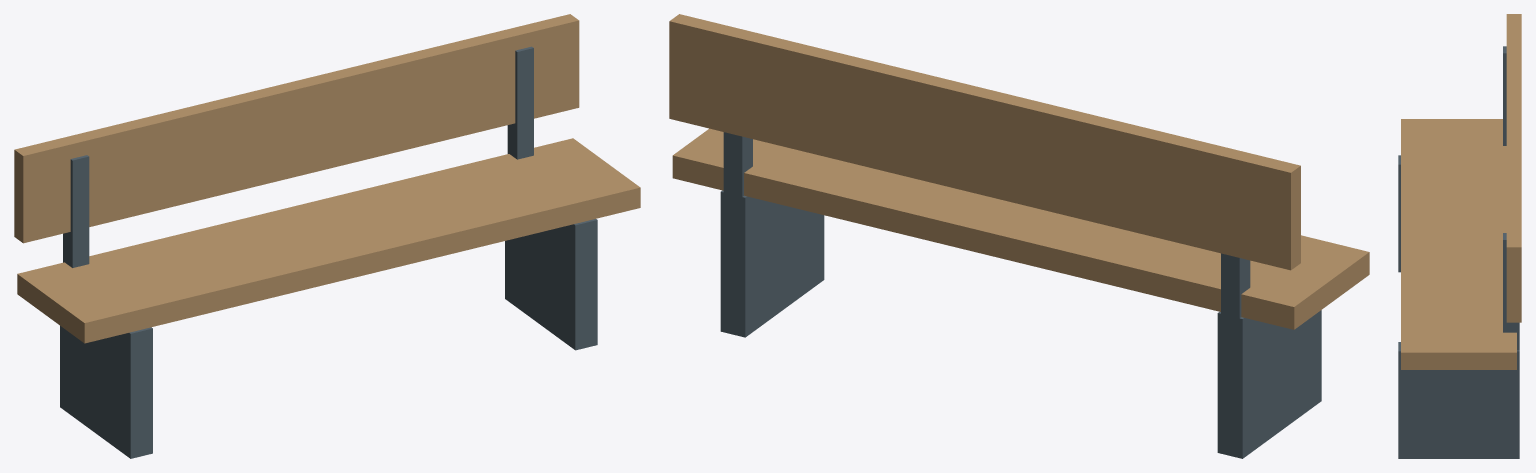
File: team-bench-ce50f02b.glb
The picture shows the model from 3 angles, left to right: view 1: azimuth 30°, elevation 25°; view 2: azimuth 150°, elevation 25°; view 3: azimuth 270°, elevation 25°; orthographic projection. The views are drawn at different scales.
Visible parts, largest first — view 1: team-bench; view 2: team-bench; view 3: team-bench.
Boxes of the visible parts, x1,y1,x2,y2 form: team-bench: [14, 14, 640, 458]; team-bench: [669, 14, 1369, 458]; team-bench: [1398, 14, 1521, 458].
Bounding box in the file's own units: 2 × 0.92 × 0.4475.
